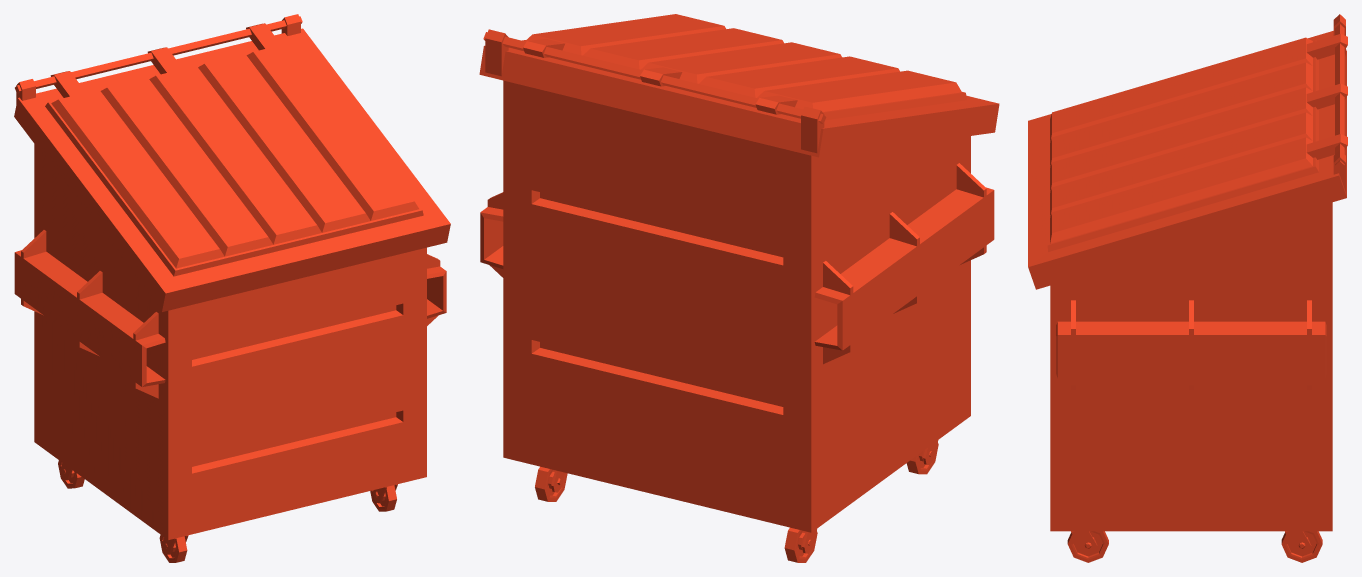
Rendered from SM_Container_City.fbx.
3 renders of one model, left to right at view 1: azimuth 30°, elevation 25°; view 2: azimuth 150°, elevation 25°; view 3: azimuth 270°, elevation 25°, orthographic. The views are drawn at different scales.
Parts seen in each view (by area): view 1: SM_Container_City_Base, SM_Container_City_Door; view 2: SM_Container_City_Base, SM_Container_City_Door; view 3: SM_Container_City_Base, SM_Container_City_Door.
Part boxes in pixels (x1=…): SM_Container_City_Base: x1=14, y1=14, x2=450, y2=562; SM_Container_City_Door: x1=45, y1=23, x2=423, y2=276; SM_Container_City_Base: x1=479, y1=29, x2=999, y2=562; SM_Container_City_Door: x1=523, y1=14, x2=966, y2=120; SM_Container_City_Base: x1=1028, y1=14, x2=1346, y2=562; SM_Container_City_Door: x1=1047, y1=33, x2=1347, y2=251.
Size of the model in its own units: 1.53 by 1.93 by 1.33.
